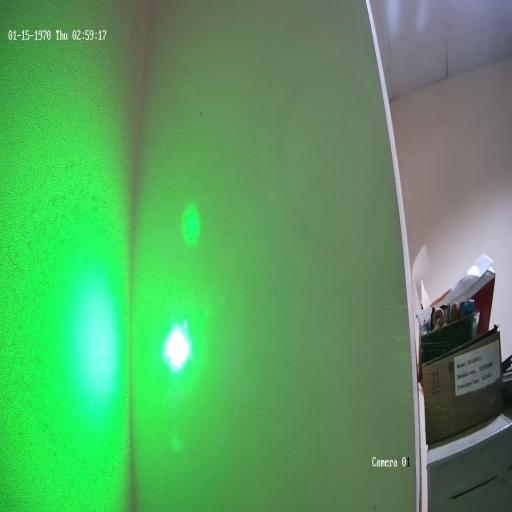laser: (144, 299, 203, 393)
